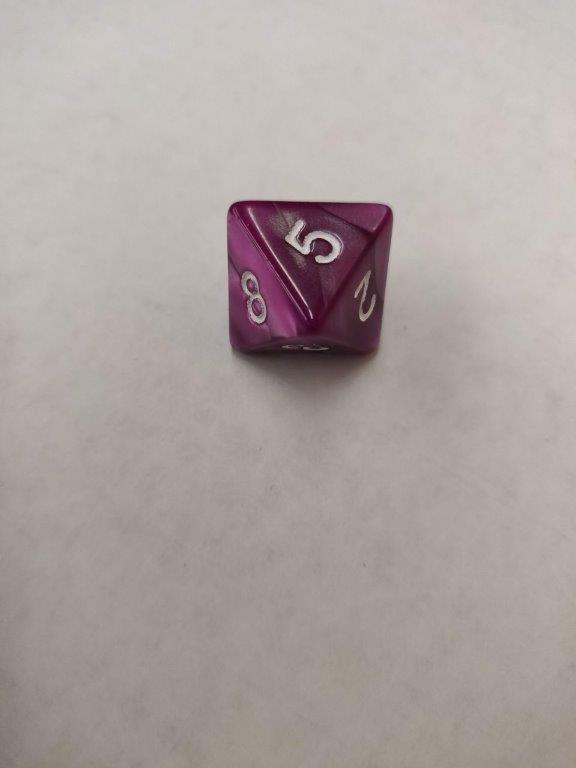d8-5: (222, 200, 397, 363)
